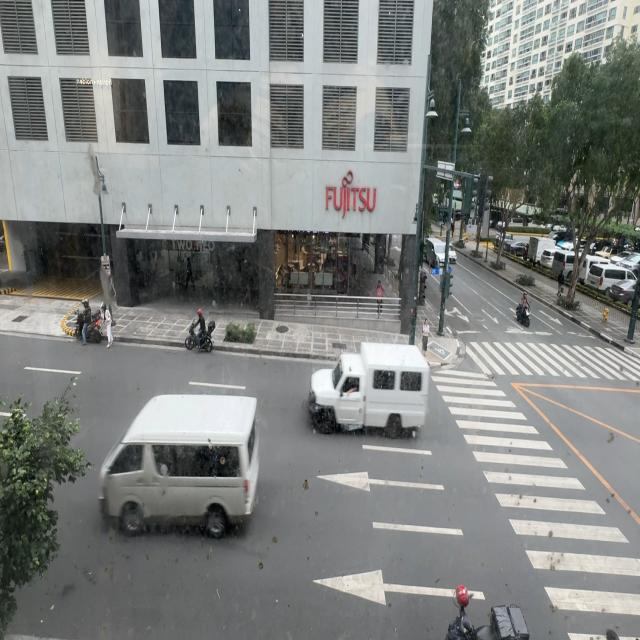pedestrain: (374, 280, 385, 317), (557, 264, 565, 297)
waiting: (422, 318, 430, 353)
